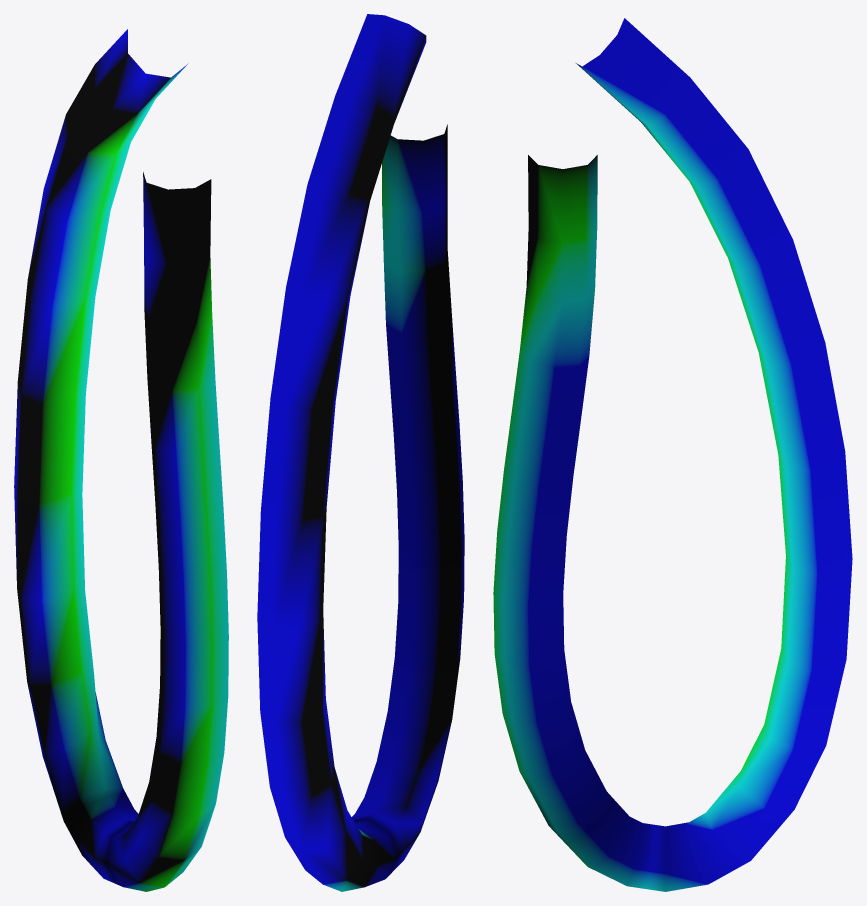
Rendered from ShadedStowedWallConnectorCable.glb.
The picture shows the model from 3 angles, left to right: view 1: azimuth 30°, elevation 25°; view 2: azimuth 150°, elevation 25°; view 3: azimuth 270°, elevation 25°; orthographic projection. The views are drawn at different scales.
Visible parts, largest first — view 1: PowerflowWallConnectorStowed-Display; view 2: PowerflowWallConnectorStowed-Display; view 3: PowerflowWallConnectorStowed-Display.
Part boxes in pixels (x1,y1,x2,y2): PowerflowWallConnectorStowed-Display: [14, 29, 228, 891]; PowerflowWallConnectorStowed-Display: [257, 14, 464, 891]; PowerflowWallConnectorStowed-Display: [493, 18, 852, 891].
Bounding box in the file's own units: 0.03 × 0.4139 × 0.1543.
